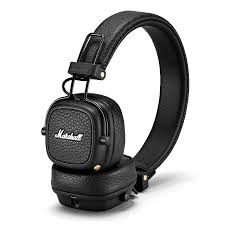headphone: (33, 7, 193, 212)
